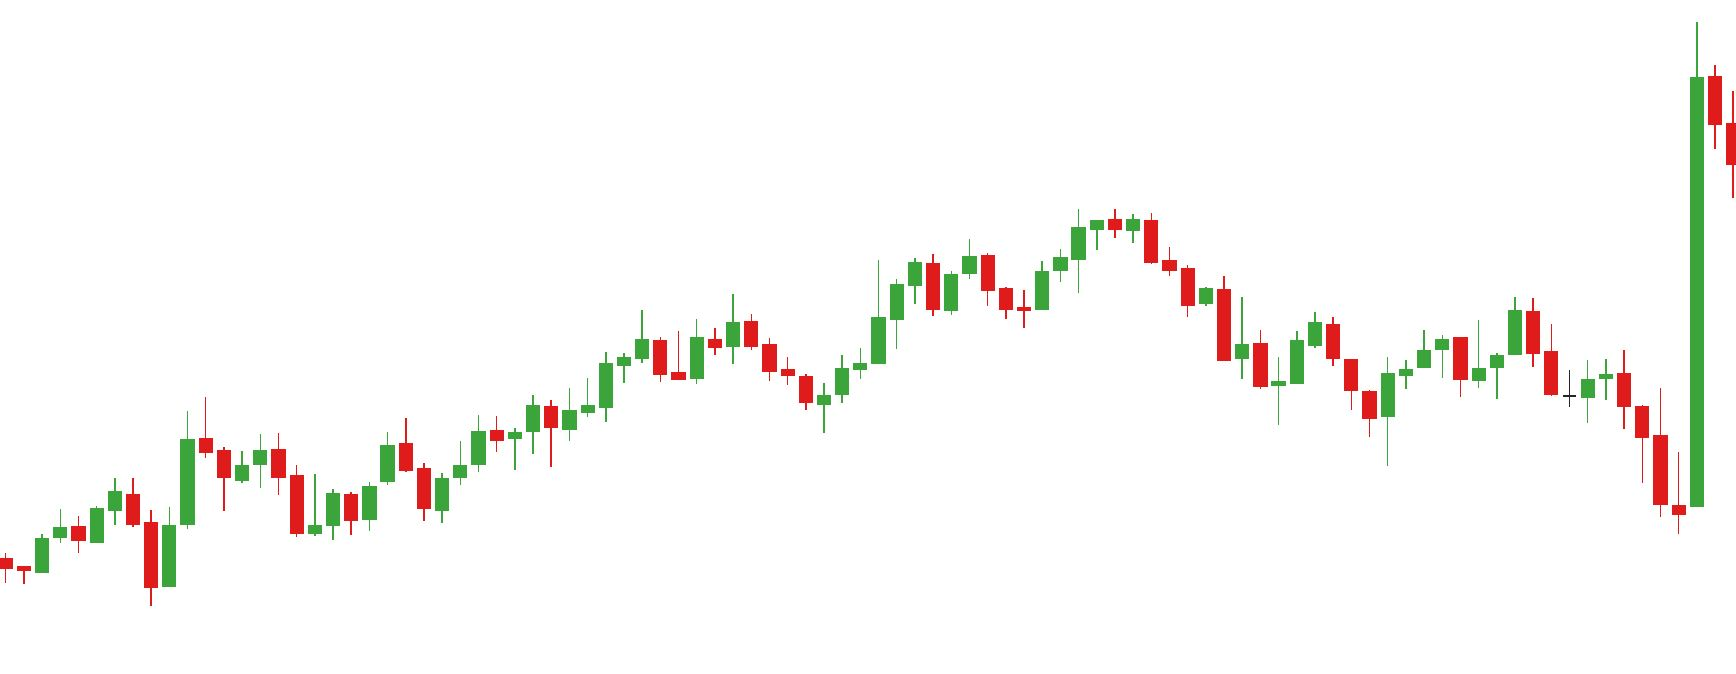buy: (652, 330, 849, 437), (19, 485, 177, 606), (923, 266, 1053, 332)
sell: (1414, 297, 1543, 385)
